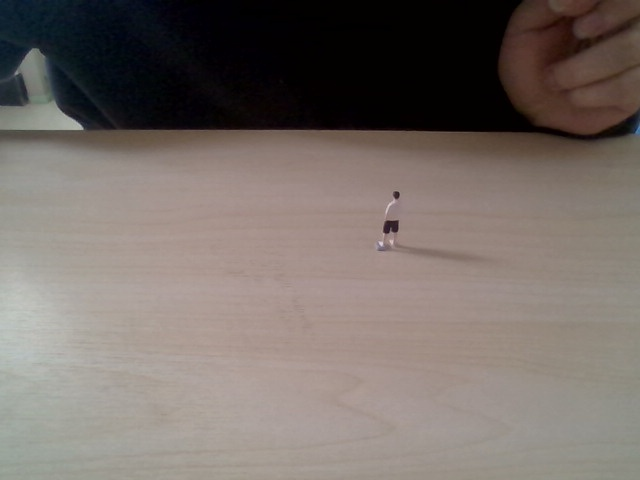walk: (374, 185, 405, 253)
